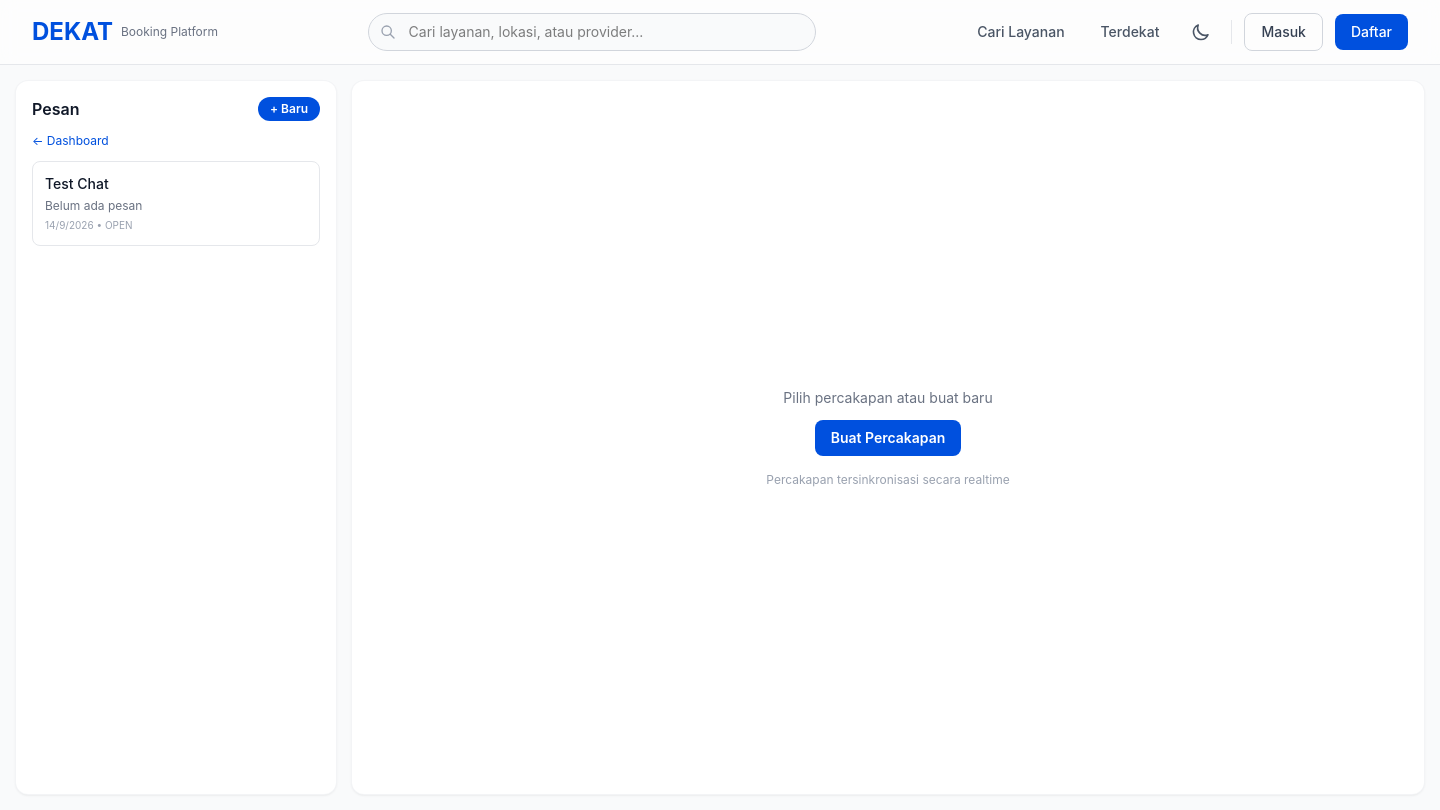
Test: ChatPage › renders provider messages left-aligned with attachment
Click the text "Test Chat" at (77, 184), box [45, 175, 109, 192]
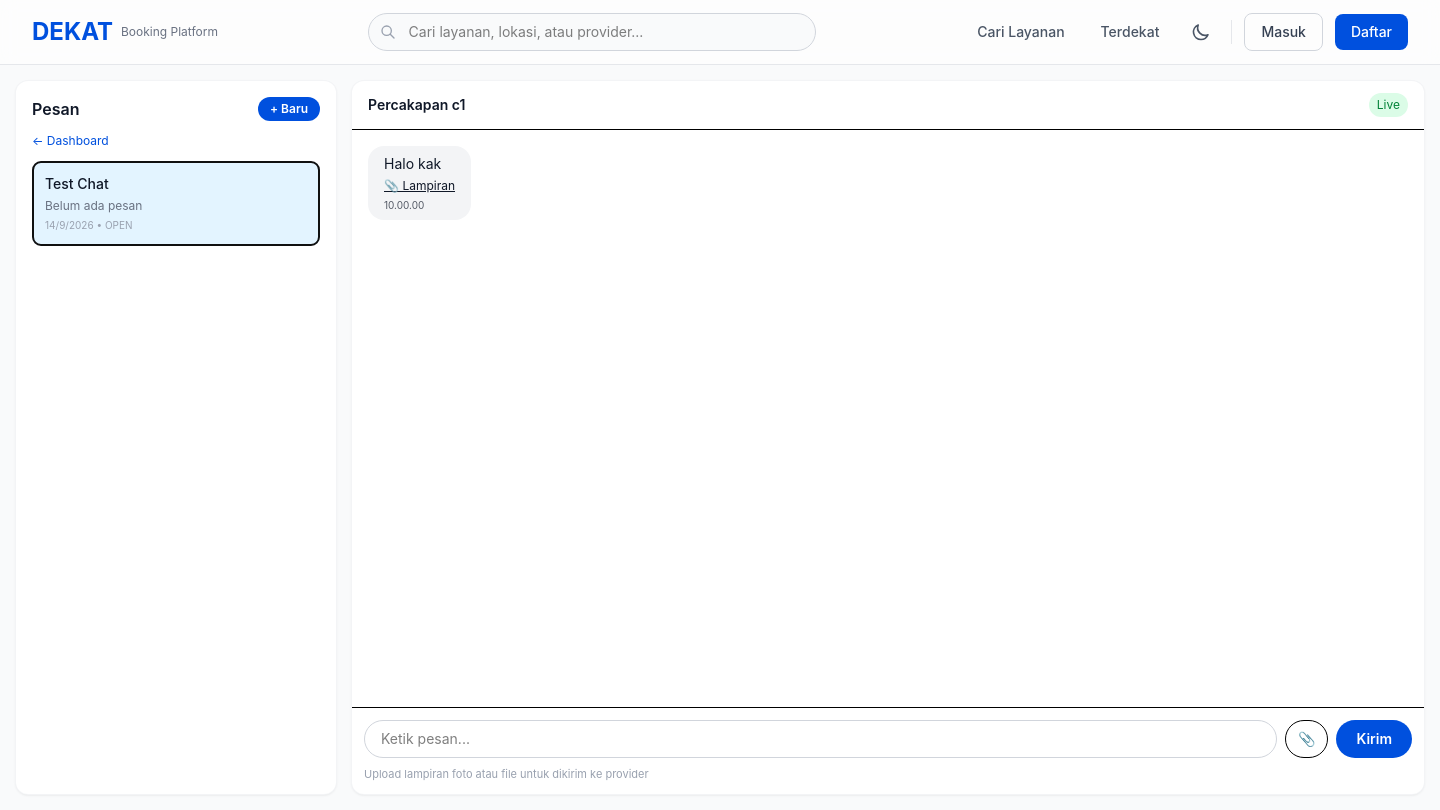
Expected: the text "Halo kak" is shown, [384, 155, 441, 172]
Expected: the link "📎 Lampiran" is shown, [384, 178, 455, 194]
Expected: the text "Live" is shown, [1369, 93, 1408, 117]
